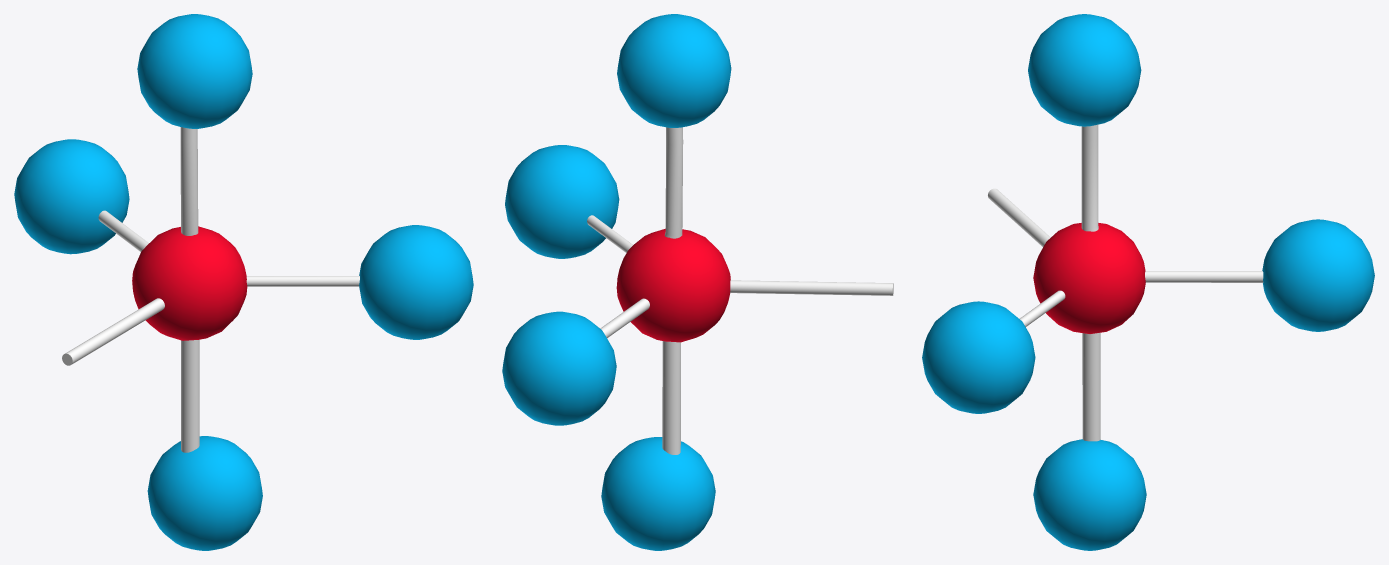
The model's file is ‑COOH.fbx.
The picture shows the model from 3 angles, left to right: view 1: azimuth 30°, elevation 25°; view 2: azimuth 150°, elevation 25°; view 3: azimuth 270°, elevation 25°; orthographic projection. The views are drawn at different scales.
Parts seen in each view (by area): view 1: Simple_sphere_02_3, Simple_sphere_02, Simple_sphere_02_2, Simple_sphere_02_5, Simple_sphere_02_4, _1212; view 2: Simple_sphere_02_5, Simple_sphere_02_3, Simple_sphere_02_2, Simple_sphere_02, Simple_sphere_02_4, _1212; view 3: Simple_sphere_02, Simple_sphere_02_3, Simple_sphere_02_5, Simple_sphere_02_2, Simple_sphere_02_4, _1212.
Boxes of the visible parts, x1=… form: Simple_sphere_02_3: x1=137, y1=14, x2=252, y2=128; Simple_sphere_02: x1=359, y1=225, x2=473, y2=339; Simple_sphere_02_2: x1=147, y1=436, x2=262, y2=550; Simple_sphere_02_5: x1=14, y1=139, x2=129, y2=254; Simple_sphere_02_4: x1=132, y1=226, x2=247, y2=340; _1212: x1=62, y1=127, x2=359, y2=452; Simple_sphere_02_5: x1=502, y1=311, x2=616, y2=425; Simple_sphere_02_3: x1=617, y1=14, x2=731, y2=127; Simple_sphere_02_2: x1=601, y1=437, x2=715, y2=550; Simple_sphere_02: x1=505, y1=145, x2=619, y2=258; Simple_sphere_02_4: x1=616, y1=228, x2=730, y2=342; _1212: x1=587, y1=127, x2=893, y2=454; Simple_sphere_02: x1=922, y1=301, x2=1035, y2=413; Simple_sphere_02_3: x1=1028, y1=14, x2=1141, y2=126; Simple_sphere_02_5: x1=1262, y1=219, x2=1374, y2=331; Simple_sphere_02_2: x1=1033, y1=439, x2=1146, y2=550; Simple_sphere_02_4: x1=1033, y1=223, x2=1145, y2=333; _1212: x1=988, y1=124, x2=1263, y2=441.
Size of the model in its own units: 1.76 by 2.27 by 1.79.
